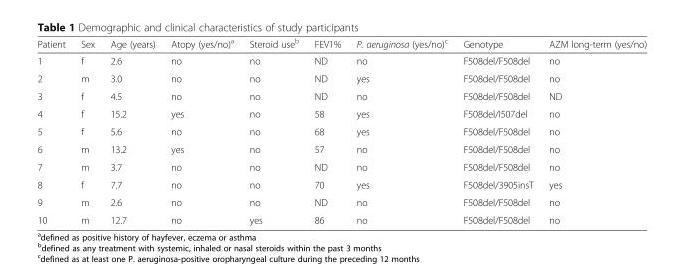table: (36, 36, 646, 225)
table column: (348, 36, 454, 225), (540, 36, 646, 225), (454, 36, 540, 225), (162, 36, 240, 225), (240, 36, 305, 225), (101, 36, 162, 225), (305, 36, 348, 225), (36, 36, 72, 225), (72, 36, 101, 225)
table column header: (36, 36, 646, 52)
table row: (36, 86, 646, 104), (36, 104, 646, 122), (36, 122, 646, 140), (36, 157, 646, 175), (36, 175, 646, 193), (36, 52, 646, 69), (36, 69, 646, 86), (36, 140, 646, 157), (36, 193, 646, 210), (36, 36, 646, 52), (36, 210, 646, 225)
